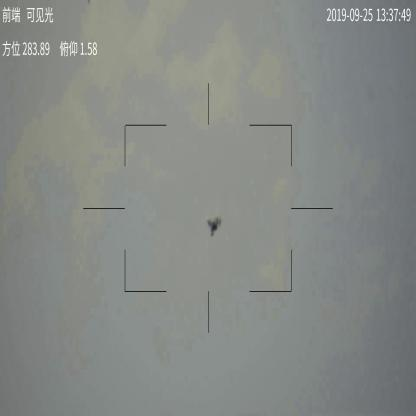uav: (206, 212, 223, 236)
